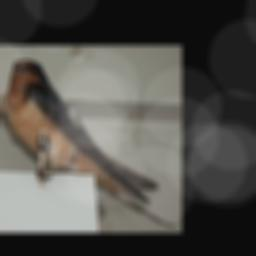Swallow: (6, 58, 178, 224)
